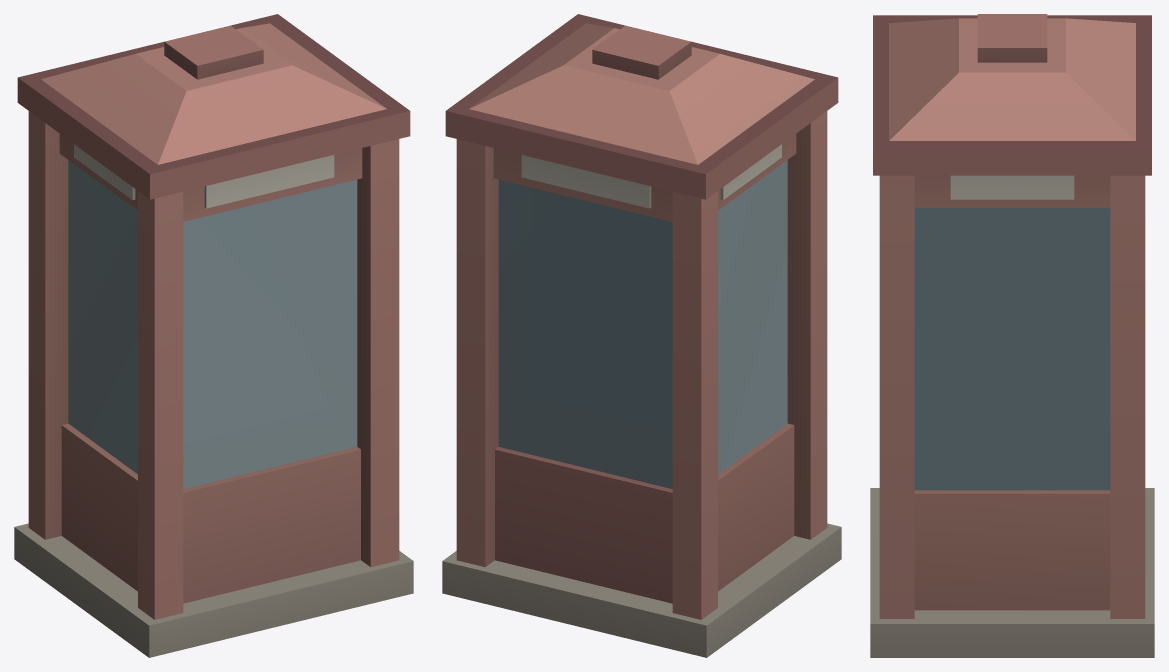
Rendered from phone.lod1.glb.
3 views of the same model, side by side, from view 1: azimuth 30°, elevation 25°; view 2: azimuth 150°, elevation 25°; view 3: azimuth 270°, elevation 25° (orthographic). The views are drawn at different scales.
Size of the model in its own units: 1.2 by 2.3 by 1.06.
